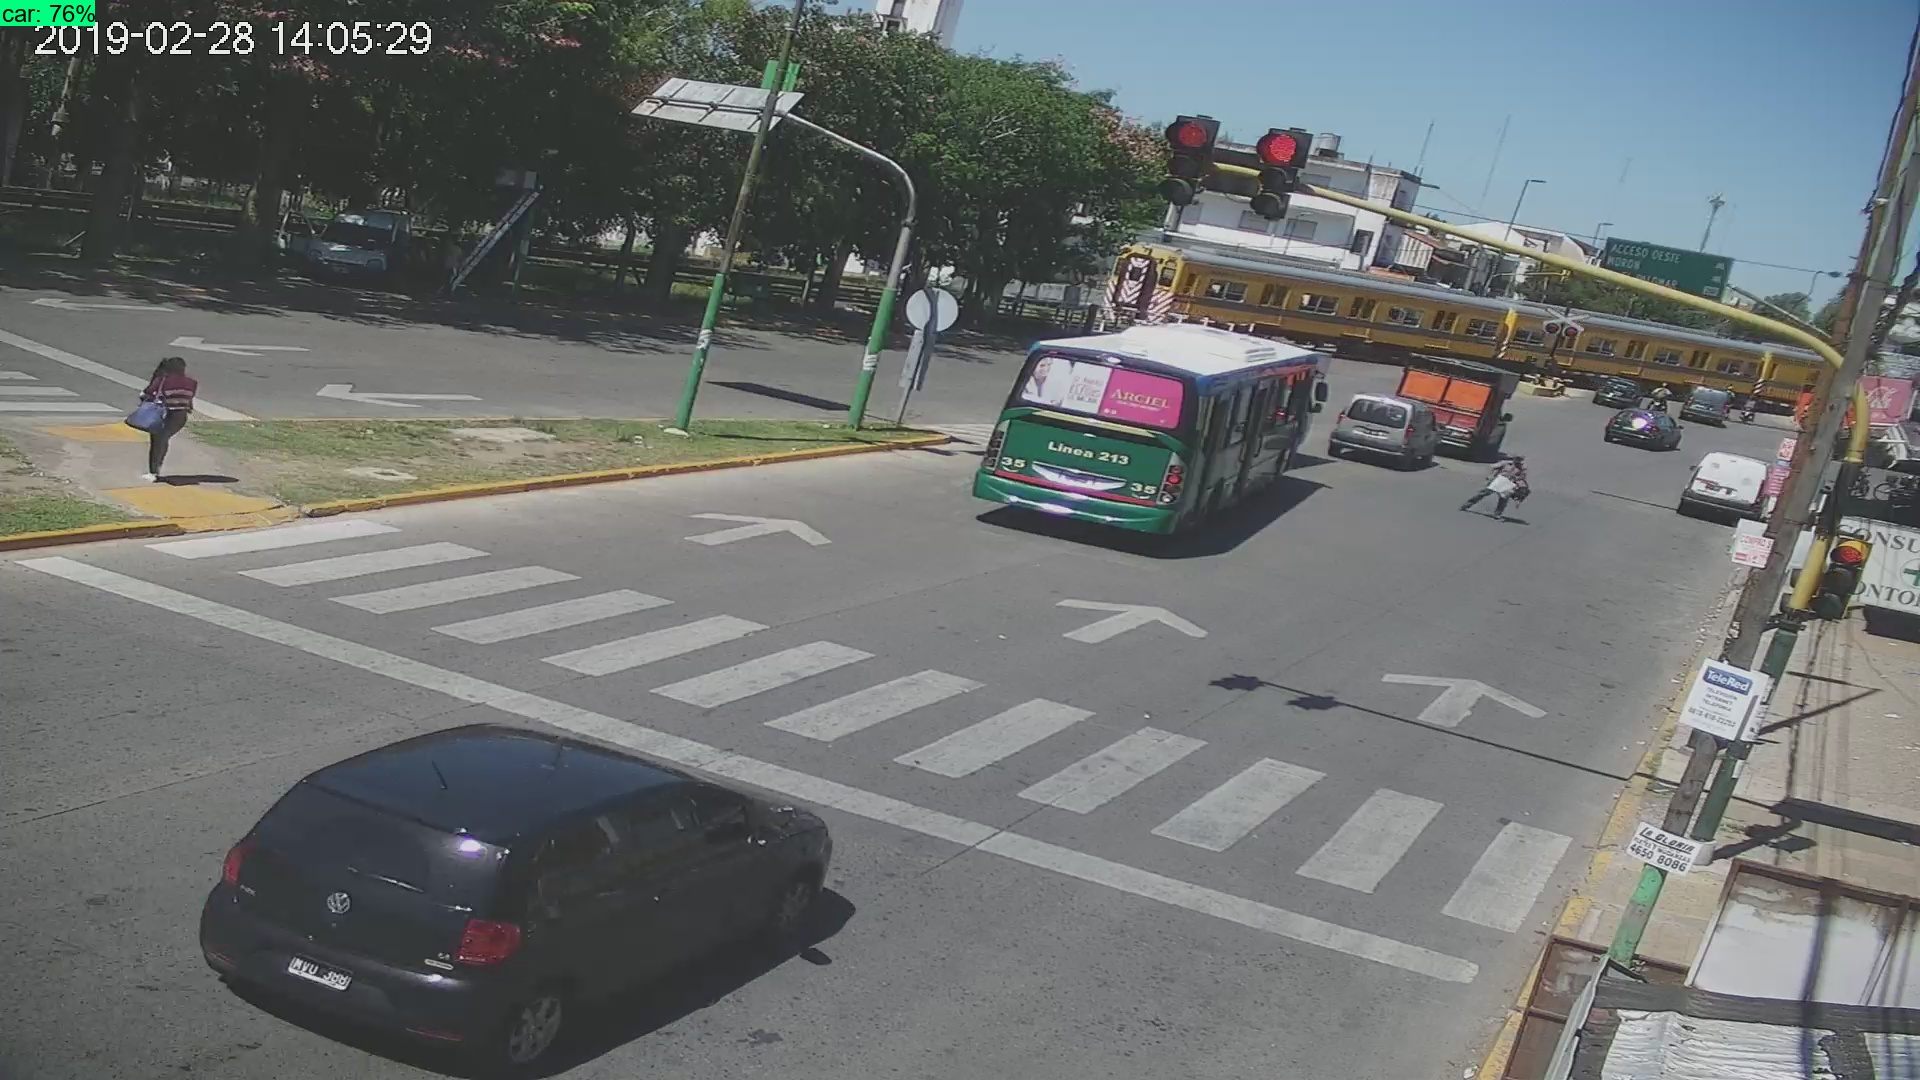car: (198, 735, 845, 1067), (945, 324, 1331, 574), (1669, 436, 1776, 537), (1337, 378, 1447, 473), (1594, 398, 1695, 467)
